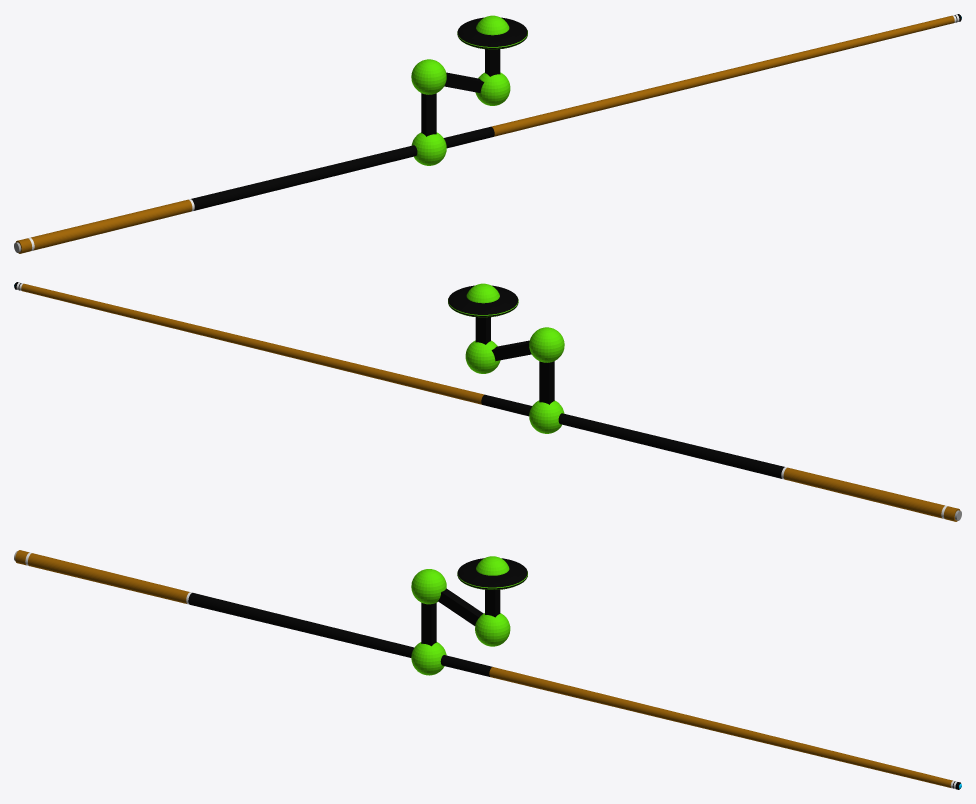
Rendered from Cue-Hierarchy.fbx.
3 renders of one model, top to bottom at view 1: azimuth 30°, elevation 25°; view 2: azimuth 150°, elevation 25°; view 3: azimuth 330°, elevation 25°, orthographic.
Visible parts, largest first — view 1: Cue Stick, Rim, Elbow Joint, Cue Hand, Shoulder Joint, Elbow, Upper Arm; view 2: Cue Stick, Rim, Elbow Joint, Cue Hand, Shoulder Joint, Elbow, Upper Arm; view 3: Cue Stick, Rim, Elbow Joint, Shoulder Joint, Cue Hand, Upper Arm, Elbow.
Boxes of the visible parts, <box> form: Cue Stick: <box>14,14,961,253</box>; Rim: <box>457,17,527,49</box>; Elbow Joint: <box>411,59,446,94</box>; Cue Hand: <box>411,132,446,165</box>; Shoulder Joint: <box>475,72,510,105</box>; Elbow: <box>421,93,436,136</box>; Upper Arm: <box>444,72,484,93</box>; Cue Stick: <box>14,282,961,521</box>; Rim: <box>448,285,518,317</box>; Elbow Joint: <box>529,327,564,362</box>; Cue Hand: <box>529,400,564,433</box>; Shoulder Joint: <box>465,340,500,373</box>; Elbow: <box>539,361,554,404</box>; Upper Arm: <box>491,340,531,361</box>; Cue Stick: <box>14,550,961,789</box>; Rim: <box>457,558,527,590</box>; Elbow Joint: <box>411,569,446,604</box>; Shoulder Joint: <box>475,613,510,646</box>; Cue Hand: <box>411,642,446,675</box>; Upper Arm: <box>438,588,483,625</box>; Elbow: <box>421,603,436,646</box>.
Bounding box in the file's own units: 601 × 79.93 × 39.06.
